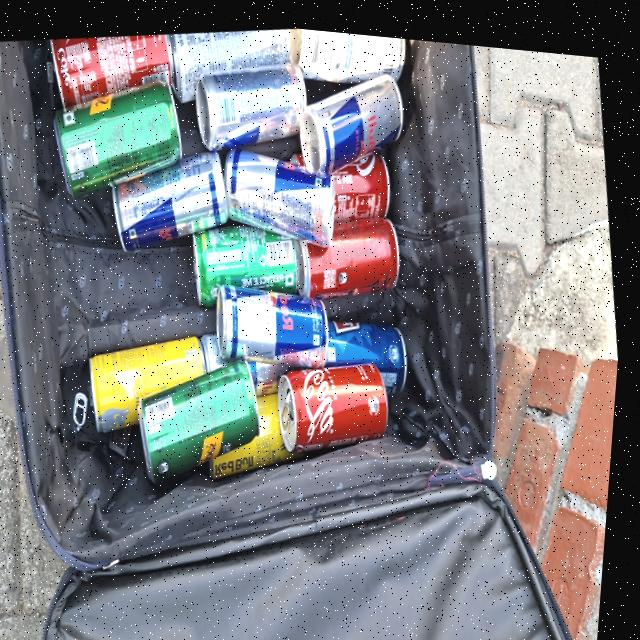Coca Cola: (278, 344, 401, 453), (51, 22, 176, 100), (326, 142, 401, 221)
Coca Cola Zero: (297, 206, 409, 301)
Redbul: (109, 136, 233, 253), (221, 132, 339, 251), (219, 272, 337, 373), (197, 58, 308, 146), (298, 74, 408, 159)
Redbull Yellow Edition: (86, 324, 215, 422), (255, 382, 304, 465)
Schweppes: (140, 351, 267, 484), (55, 80, 187, 193)
Sprite: (191, 210, 304, 297)
Thums Up: (328, 297, 417, 395)
White Monster: (168, 15, 293, 99), (295, 23, 402, 81)
